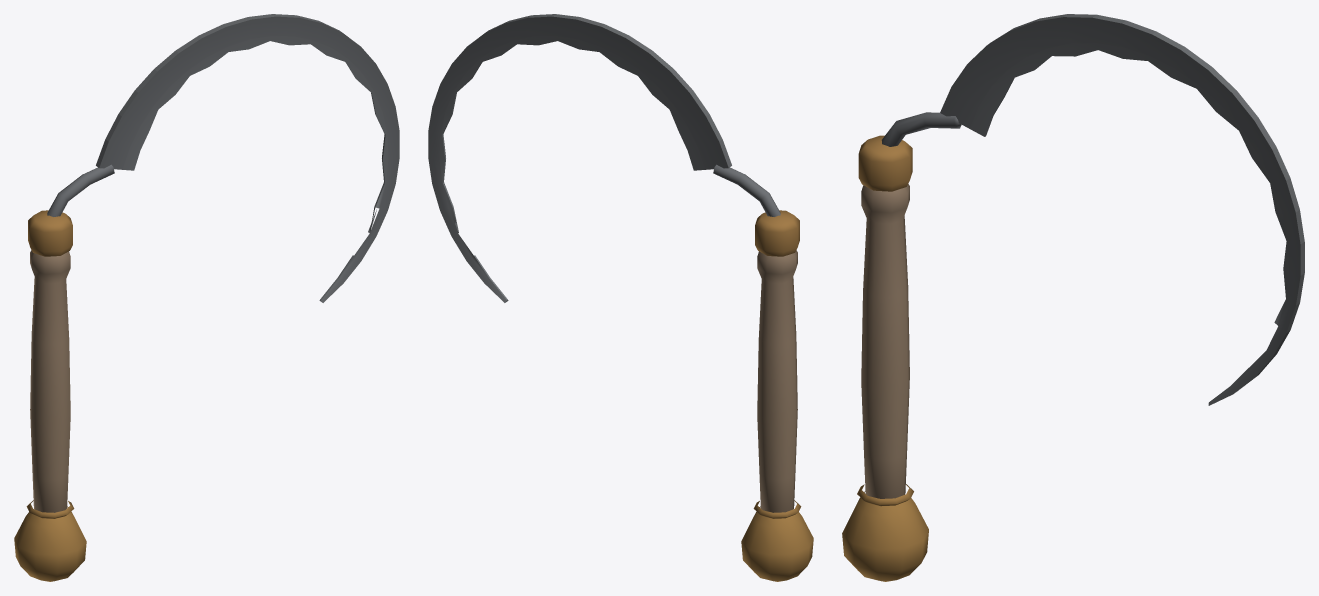
Rendered from tool_sickle_balanced_a.glb.
3 renders of one model, left to right at view 1: azimuth 30°, elevation 25°; view 2: azimuth 150°, elevation 25°; view 3: azimuth 330°, elevation 25°, orthographic. The views are drawn at different scales.
Parts seen in each view (by area): view 1: tool_sickle_balanced_a_mesh; view 2: tool_sickle_balanced_a_mesh; view 3: tool_sickle_balanced_a_mesh.
Boxes of the visible parts, box(x1,y1,x2,y2) form: tool_sickle_balanced_a_mesh: box(14, 14, 399, 581); tool_sickle_balanced_a_mesh: box(428, 14, 813, 581); tool_sickle_balanced_a_mesh: box(842, 14, 1304, 581).
Size of the model in its own units: 0.5284 by 0.6859 by 0.0837.
